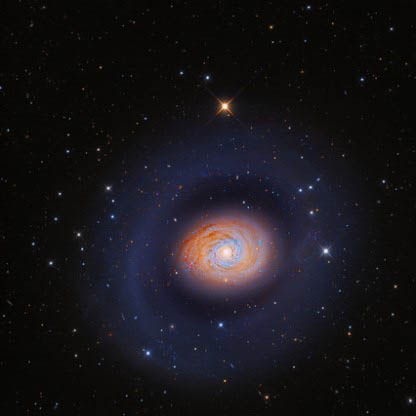Messier 94: (78, 124, 358, 387)
